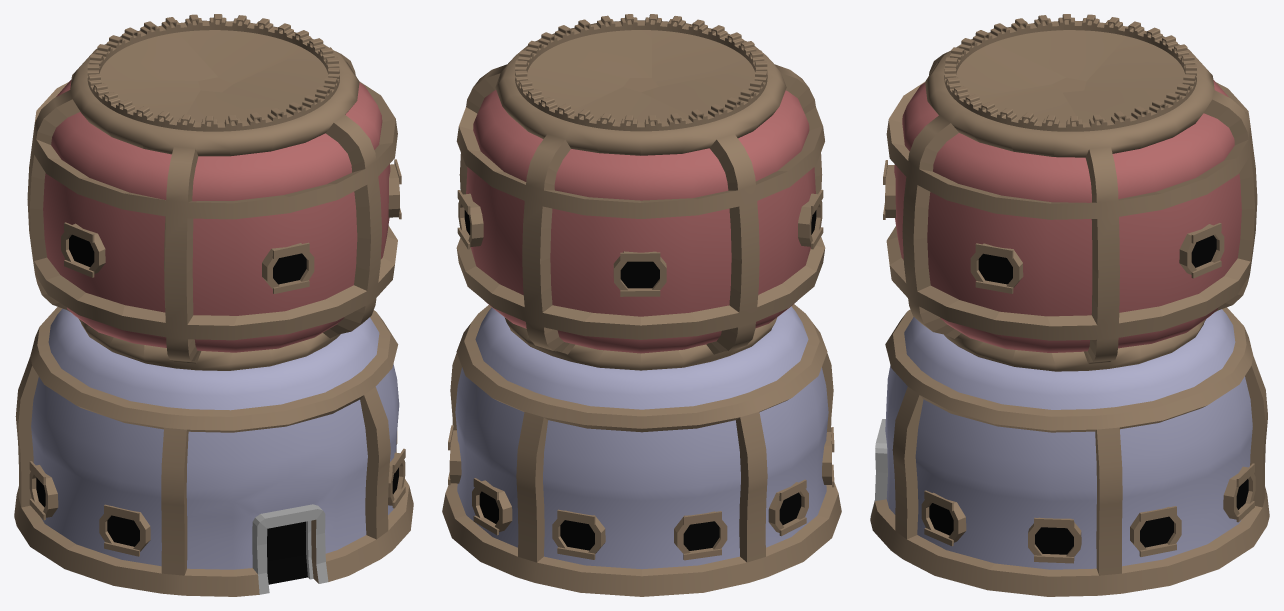
The model's file is luxury_residential_building_06.fbx.
The picture shows the model from 3 angles, left to right: view 1: azimuth 30°, elevation 25°; view 2: azimuth 150°, elevation 25°; view 3: azimuth 270°, elevation 25°; orthographic projection.
Parts seen in each view (by area): view 1: luxury_residential_building_02; view 2: luxury_residential_building_02; view 3: luxury_residential_building_02.
Boxes of the visible parts, <box> form: luxury_residential_building_02: <box>14,14,413,596</box>; luxury_residential_building_02: <box>442,14,841,596</box>; luxury_residential_building_02: <box>870,14,1269,596</box>.
Size of the model in its own units: 1195 by 1472 by 1197.
